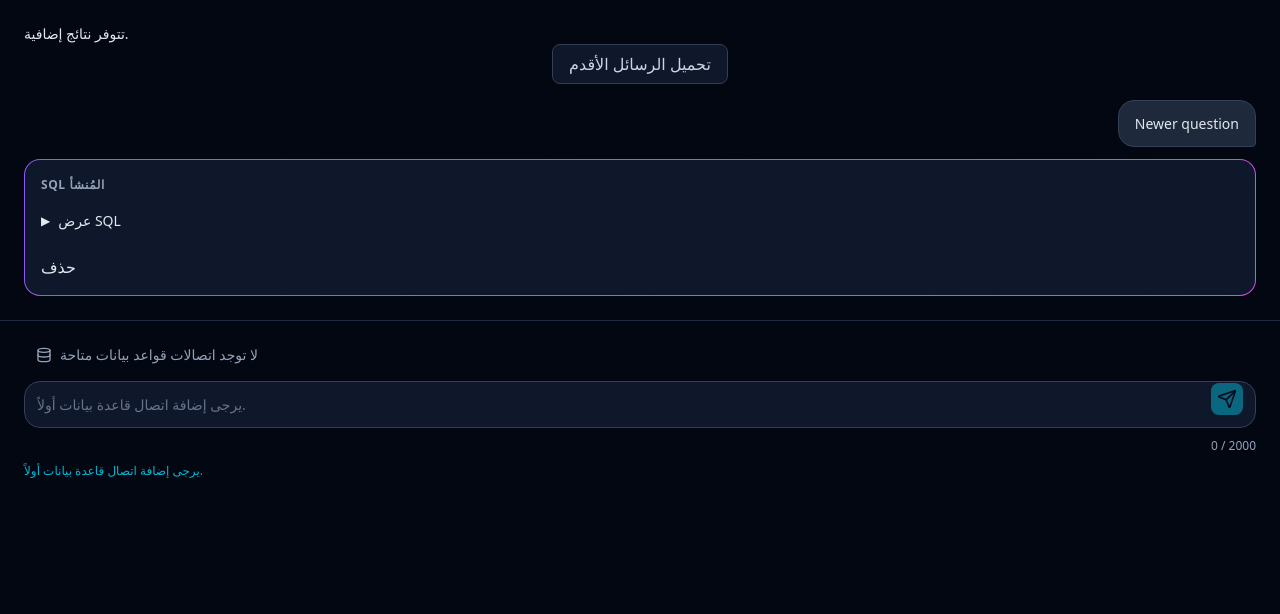
Test: WorkspacePage duplicate turn regression › loads older attempts explicitly in chronological order in ar
The image size is (1280, 614).
(page scrolled)
Expected: the element with class "workspace-conversation" is shown, [0,0,1279,320]
Click the button "تحميل الرسائل الأقدم". click: {"x": 640, "y": 64}
box: [552,44,728,84]
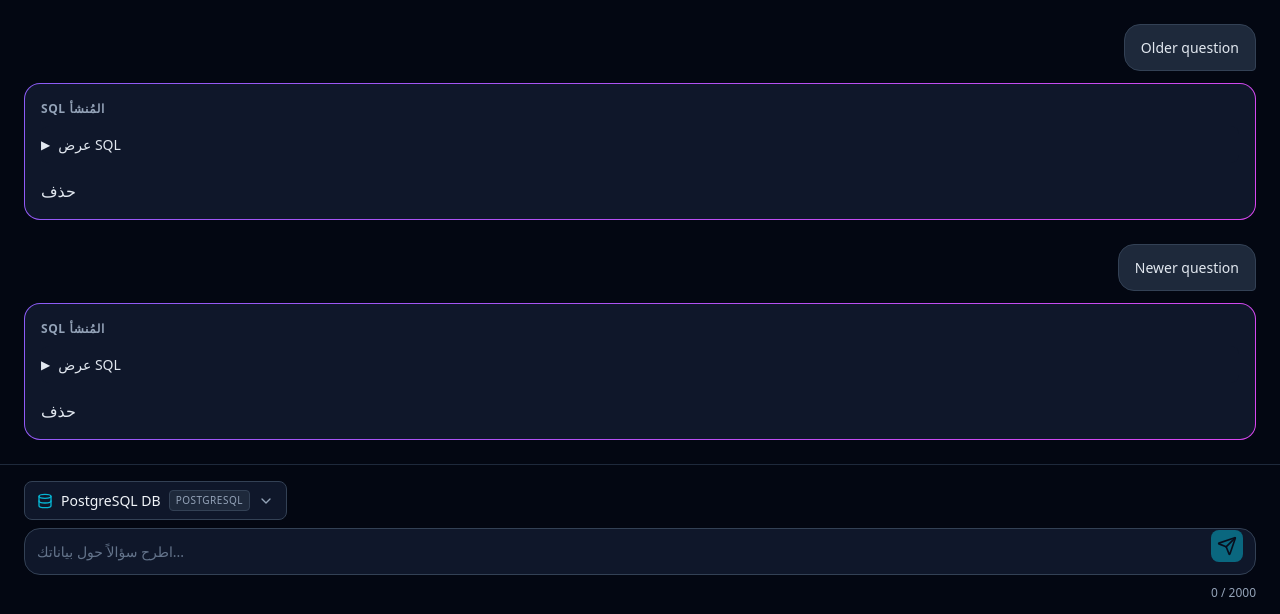
Expected: the elements with test id "user-bubble" read "Older question", "Newer question", in this order, [1124,24,1256,71]; [1118,244,1256,291]
